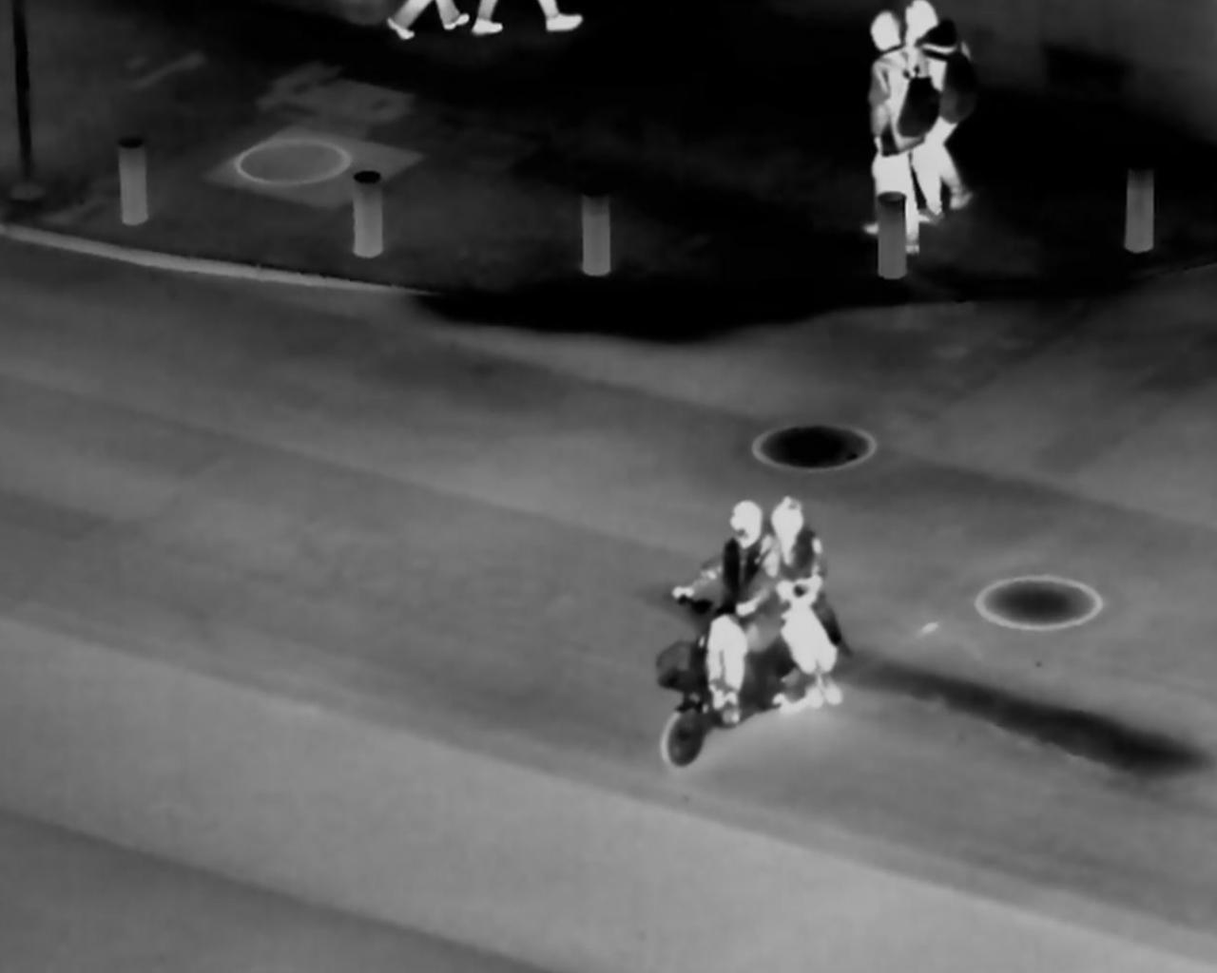person: (686, 486, 775, 731), (896, 4, 991, 216), (856, 11, 936, 253), (761, 486, 845, 706)
